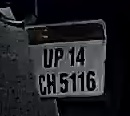1: (69, 44, 76, 72), (77, 71, 85, 93), (70, 73, 78, 94)
4: (77, 45, 86, 68)
5: (60, 72, 70, 96)
6: (86, 69, 100, 94)
C: (37, 74, 47, 96)
H: (46, 72, 58, 95)
P: (54, 47, 66, 70)
U: (43, 49, 53, 70)
